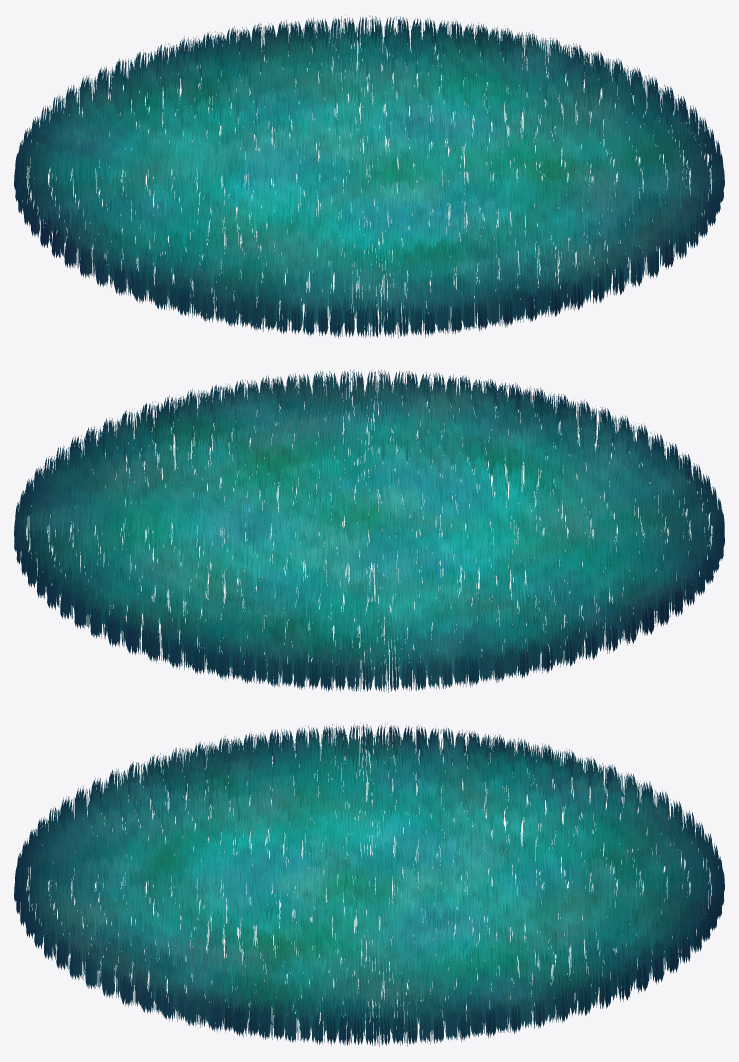
Rendered from grass_circle_night.glb.
The picture shows the model from 3 angles, top to bottom: view 1: azimuth 30°, elevation 25°; view 2: azimuth 150°, elevation 25°; view 3: azimuth 270°, elevation 25°; orthographic projection.
Parts seen in each view (by area): view 1: grass_circle_night.001; view 2: grass_circle_night.001; view 3: grass_circle_night.001.
Part boxes in pixels (box(x1,y1,x2,y2)): grass_circle_night.001: box(14, 15, 724, 338); grass_circle_night.001: box(14, 369, 724, 692); grass_circle_night.001: box(14, 722, 724, 1046).
Size of the model in its own units: 23.85 by 1 by 23.85.
1 material, 1 textured.
